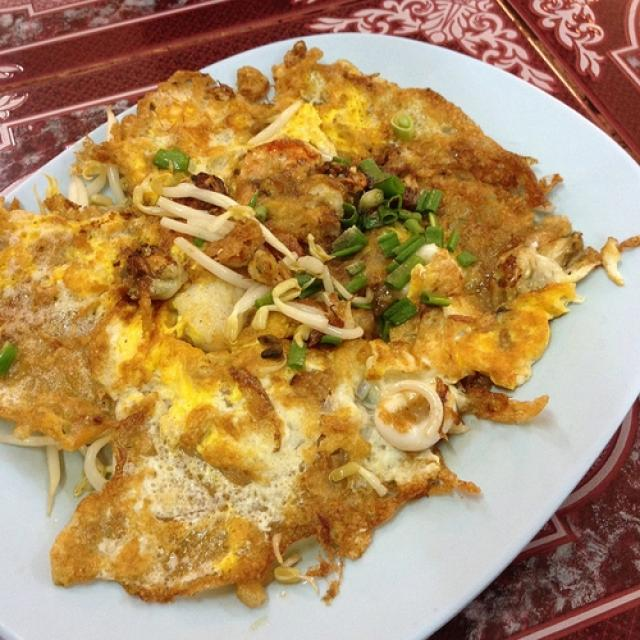炸货点心: (8, 15, 609, 616)
蛋糕甜品: (8, 15, 609, 616)
